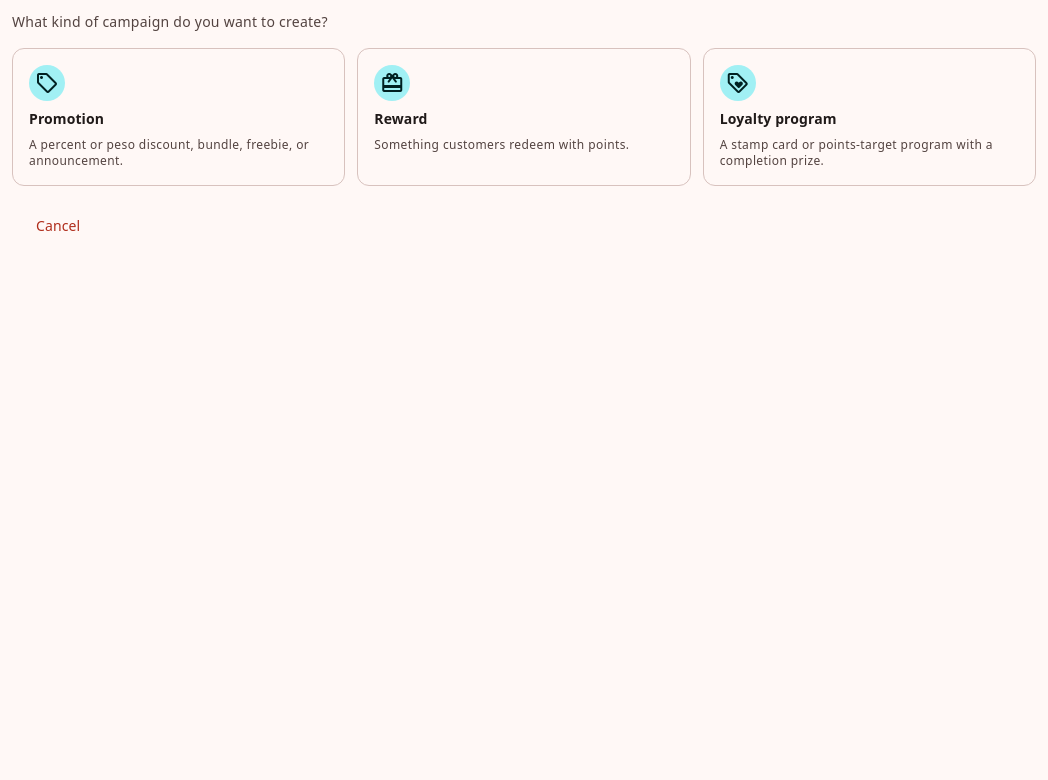
Test case: CampaignForm › shows required-field errors for the promotion form when submitted empty
Click the button "Promotion": (179, 117) [12,48,345,186]
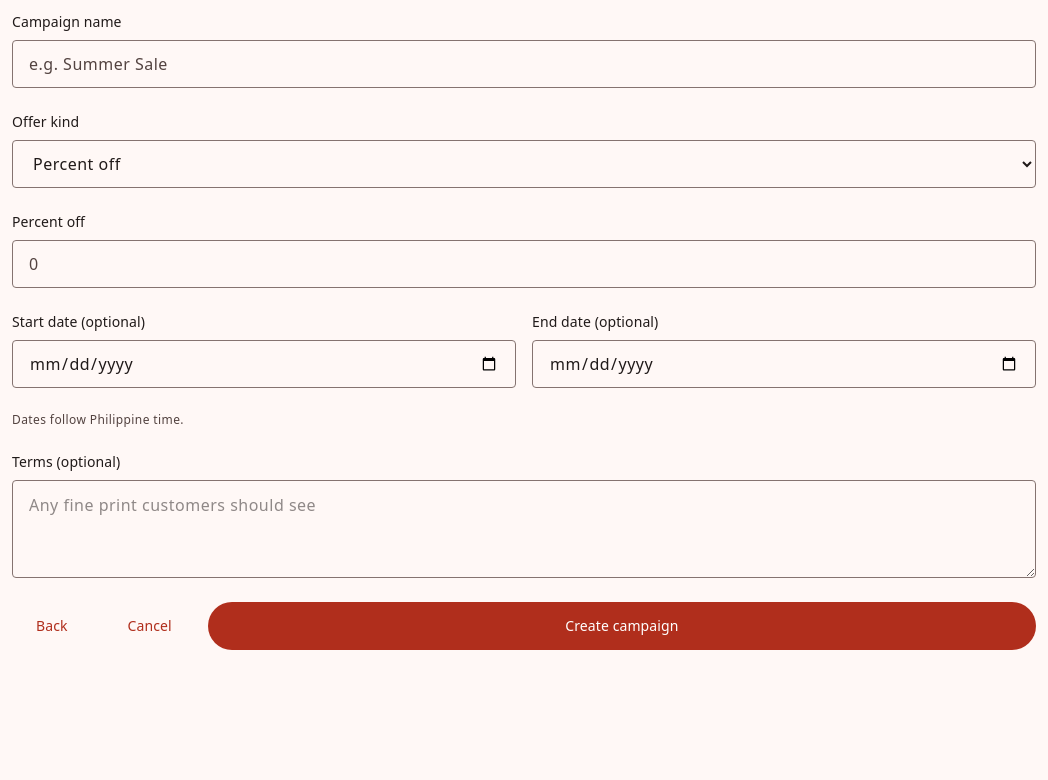
Click the button "Create campaign": (622, 626) [208,602,1036,650]
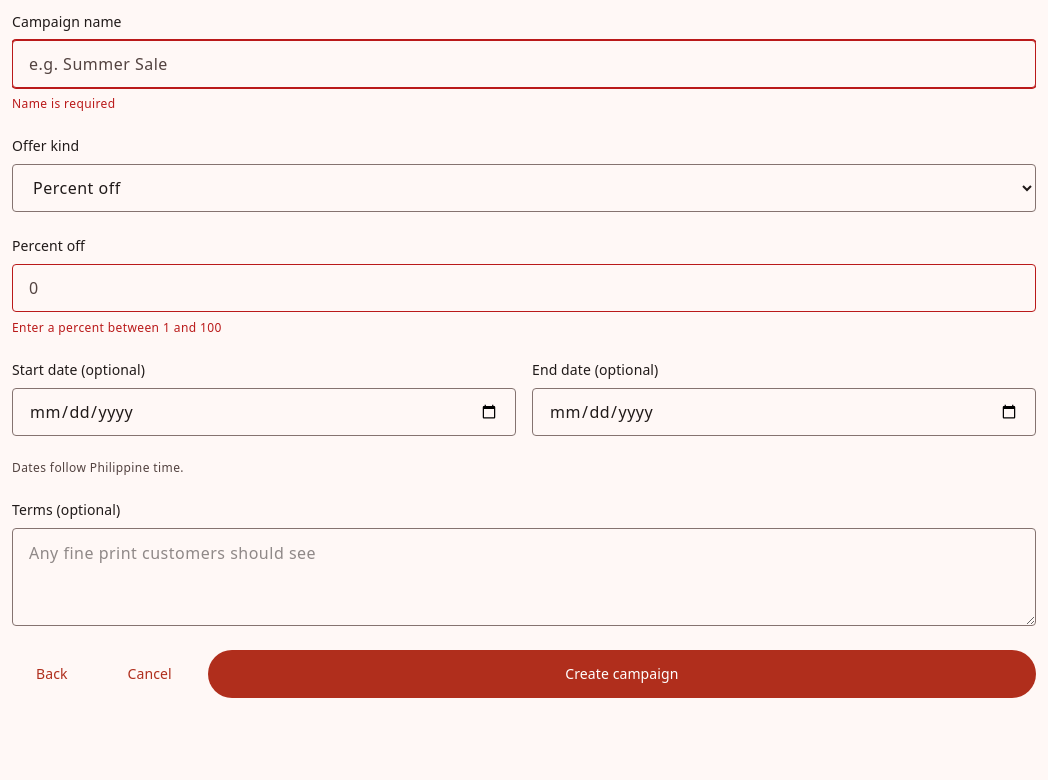
Expected: the text "Name is required" is shown, [12,95,116,112]
Expected: the text "Enter a percent between 1 and 100" is shown, [12,319,222,336]
